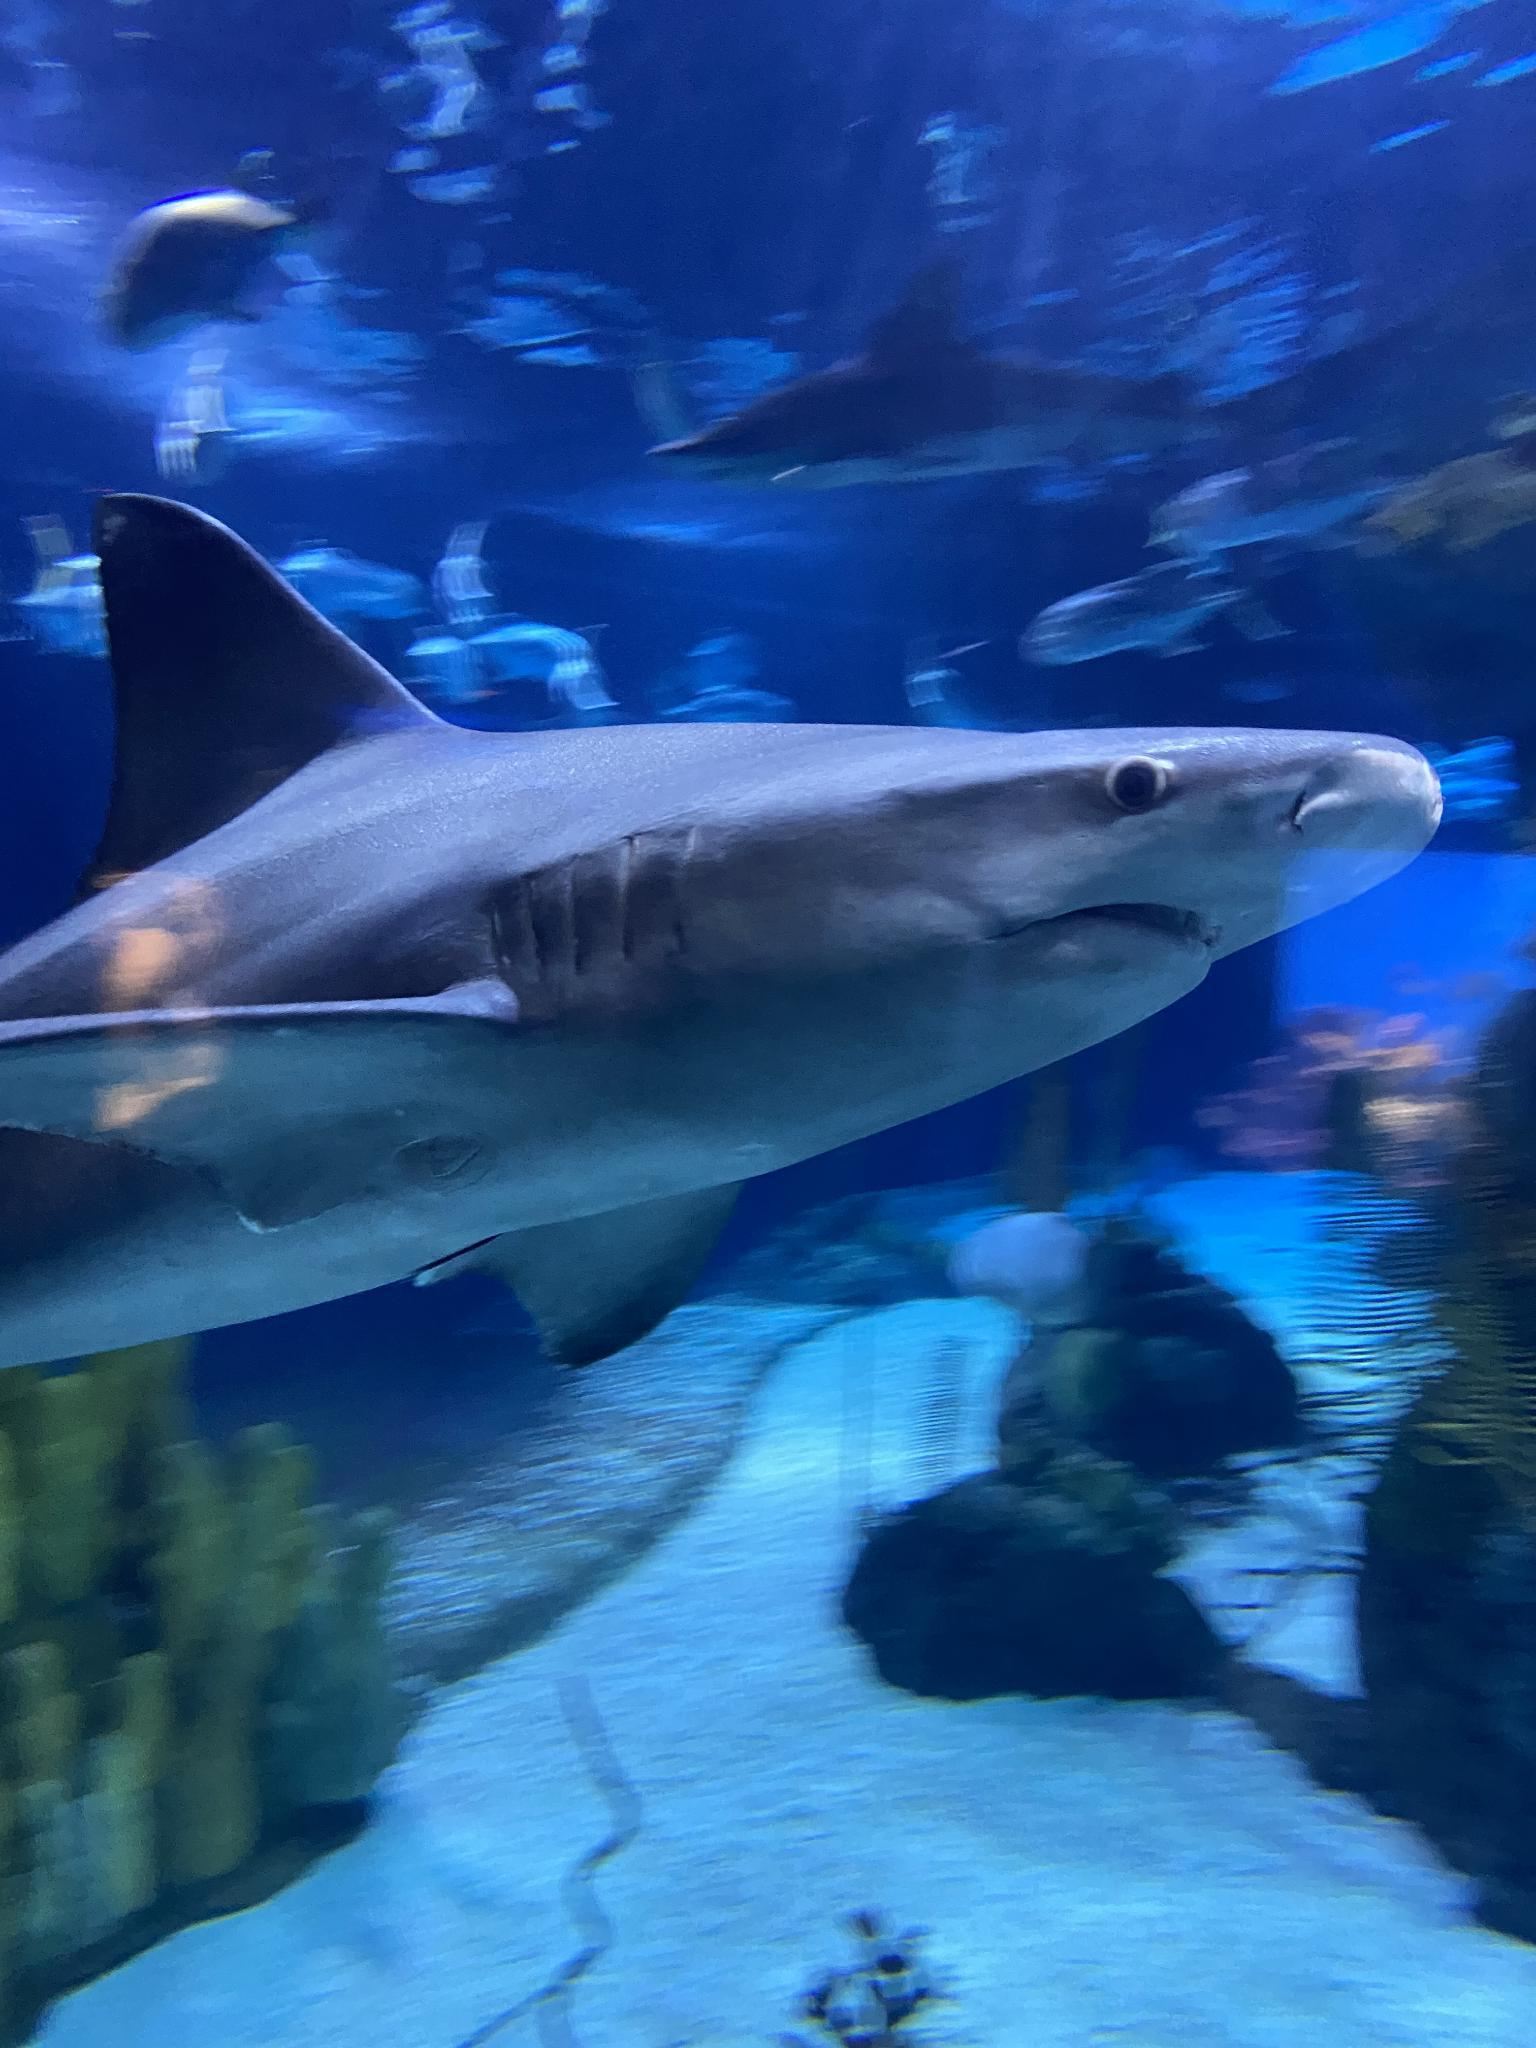fish: (94, 177, 328, 358)
shark: (0, 489, 1447, 1371), (641, 269, 1428, 502)
